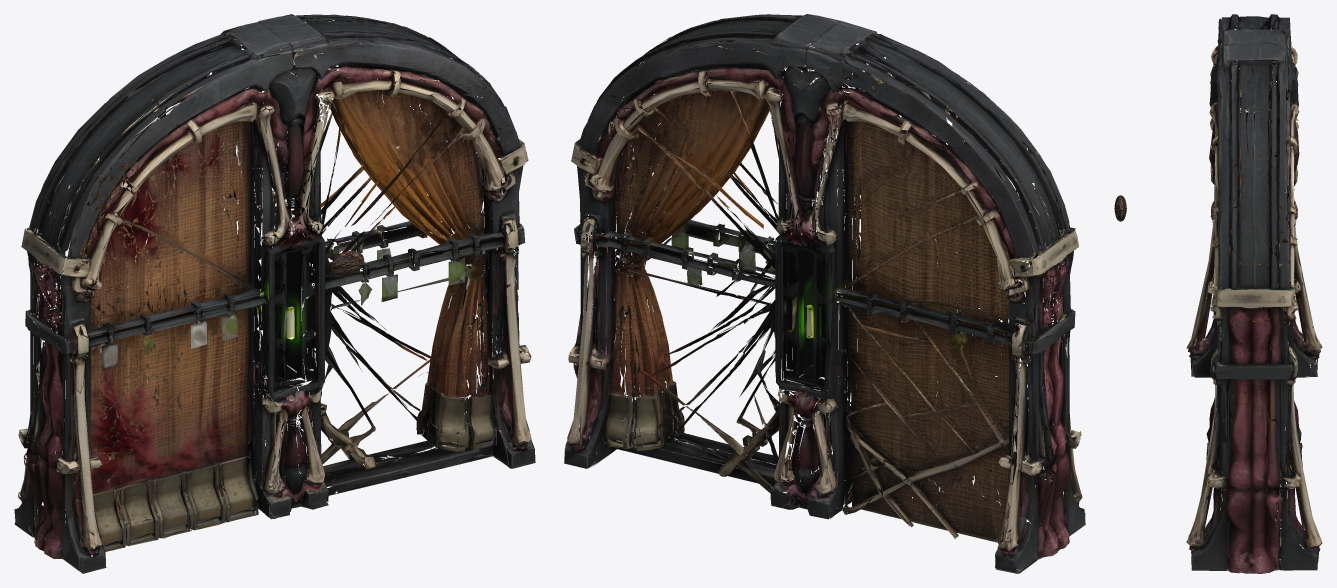
Rendered from tallow_red_mold_quarantine_loom.glb.
3 views of the same model, side by side, from view 1: azimuth 30°, elevation 25°; view 2: azimuth 150°, elevation 25°; view 3: azimuth 270°, elevation 25° (orthographic). The views are drawn at different scales.
Visible parts, largest first — view 1: node_0, HB_PULSE_00; view 2: node_0; view 3: node_0.
Boxes of the visible parts, left/top/right/bottom form: node_0: left=14, top=14, right=535, bottom=573; HB_PULSE_00: left=331, top=250, right=364, bottom=276; node_0: left=564, top=14, right=1085, bottom=573; node_0: left=1186, top=14, right=1322, bottom=573.
Size of the model in its own units: 0.8993 by 0.8475 by 0.3682.
1 material, 1 textured.
